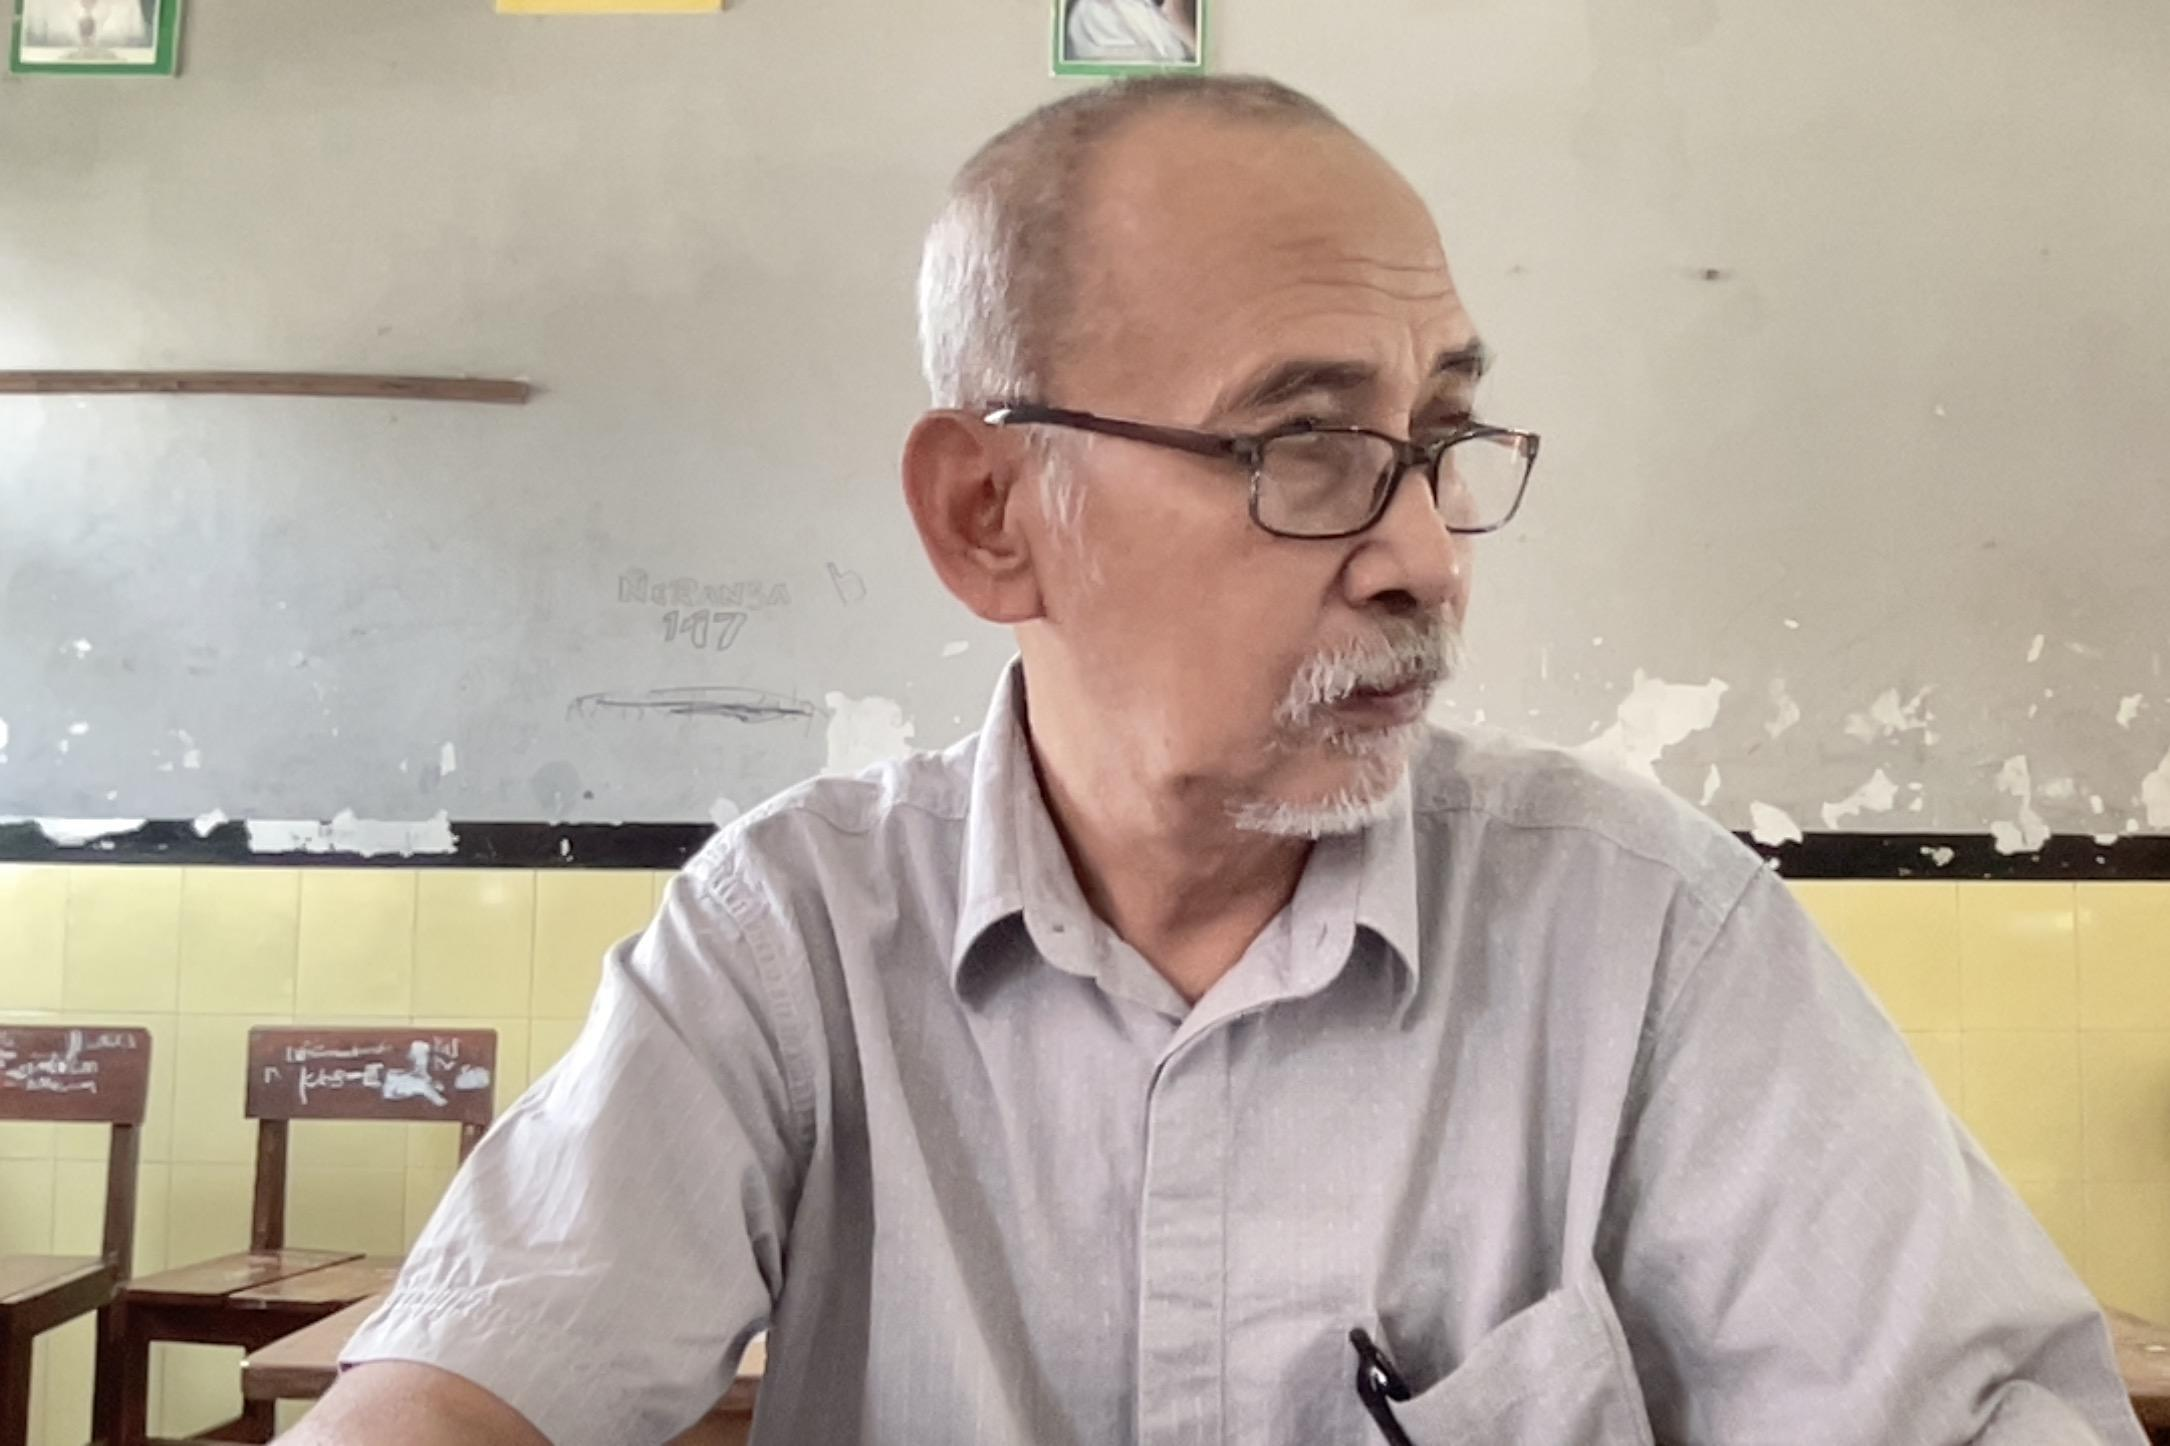cheating: (831, 37, 1626, 1036)
